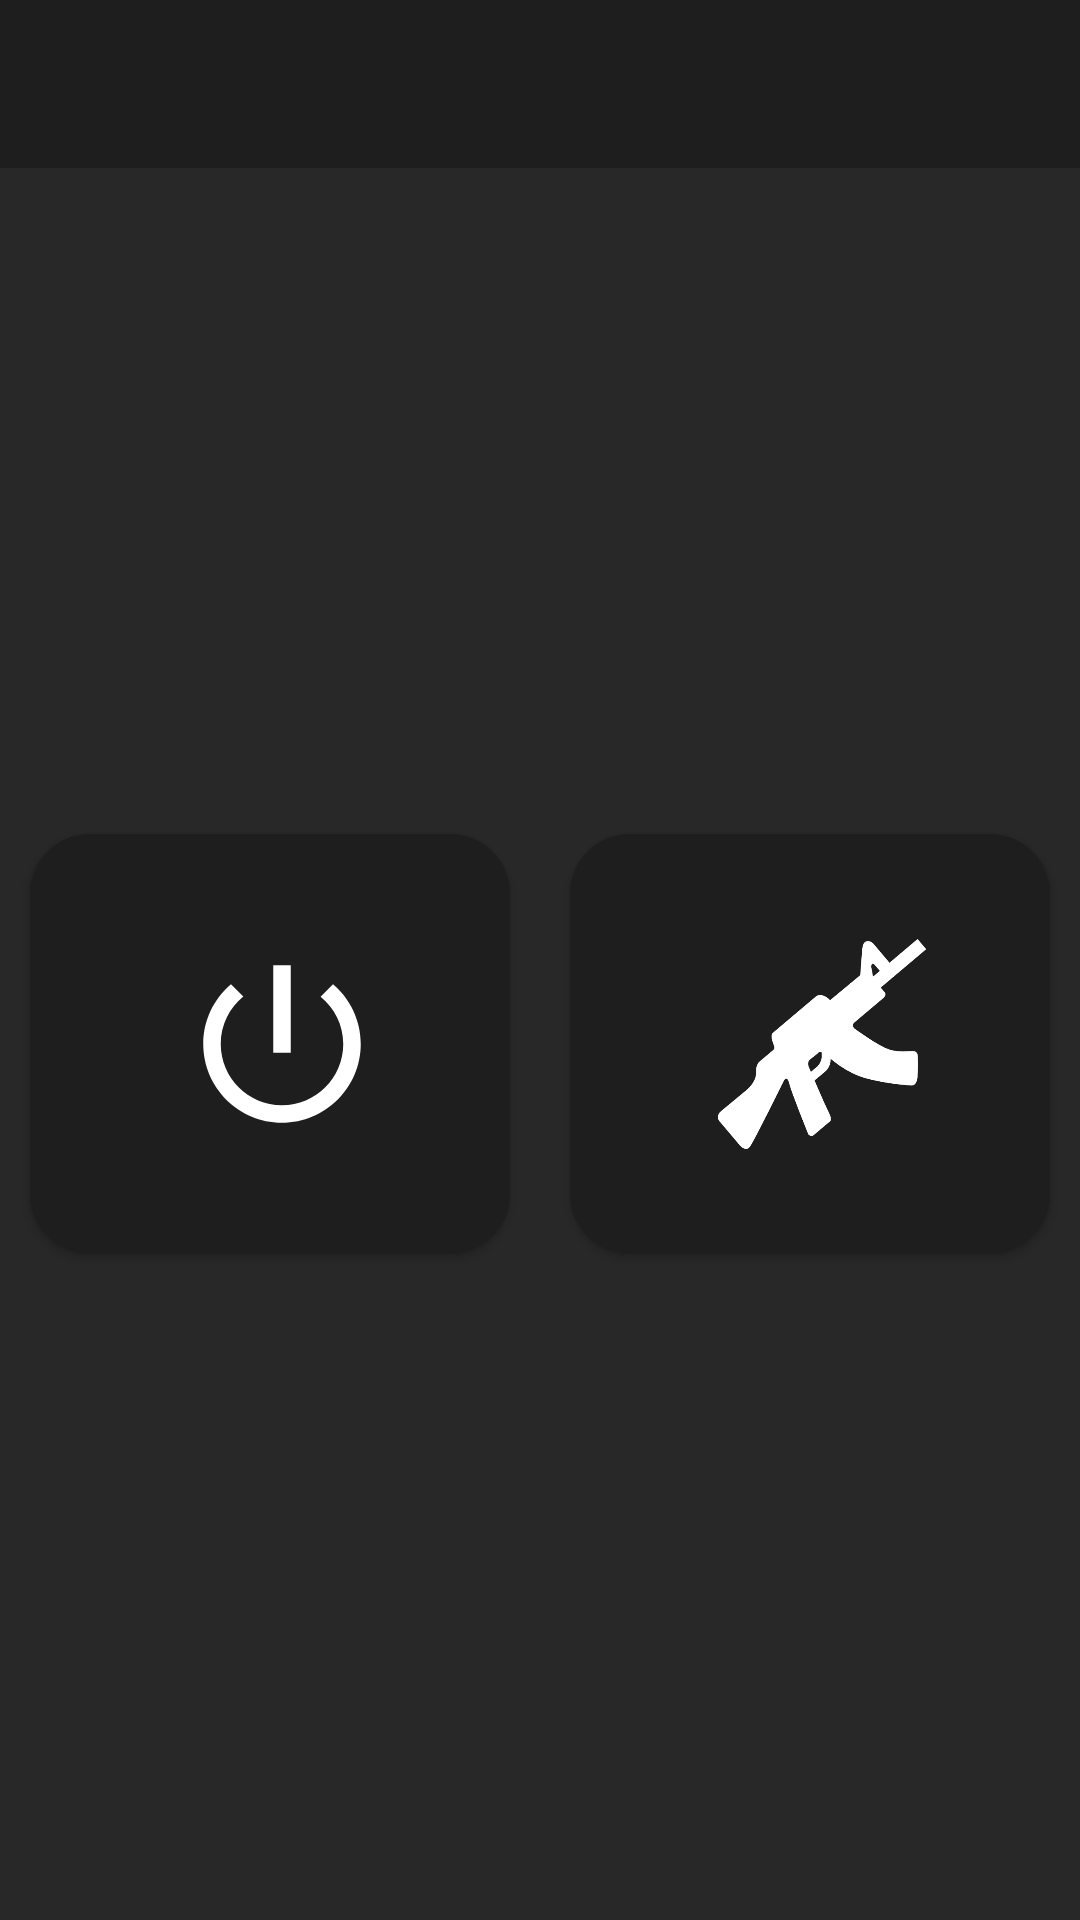

Icon bounding boxes for this 1080*1920 phone screenshot, format bbox=[x1, y1, x2, y2]:
power turned off: bbox=[203, 965, 361, 1123]
submachine gun: bbox=[718, 939, 926, 1149]
